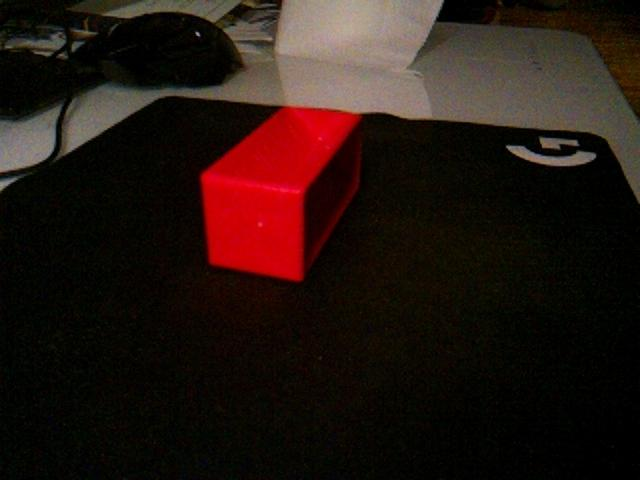red: (199, 105, 364, 283)
